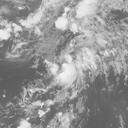cyclone: (43, 44, 87, 92)
